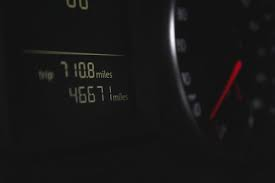Digital_Meter: (29, 54, 131, 110)
